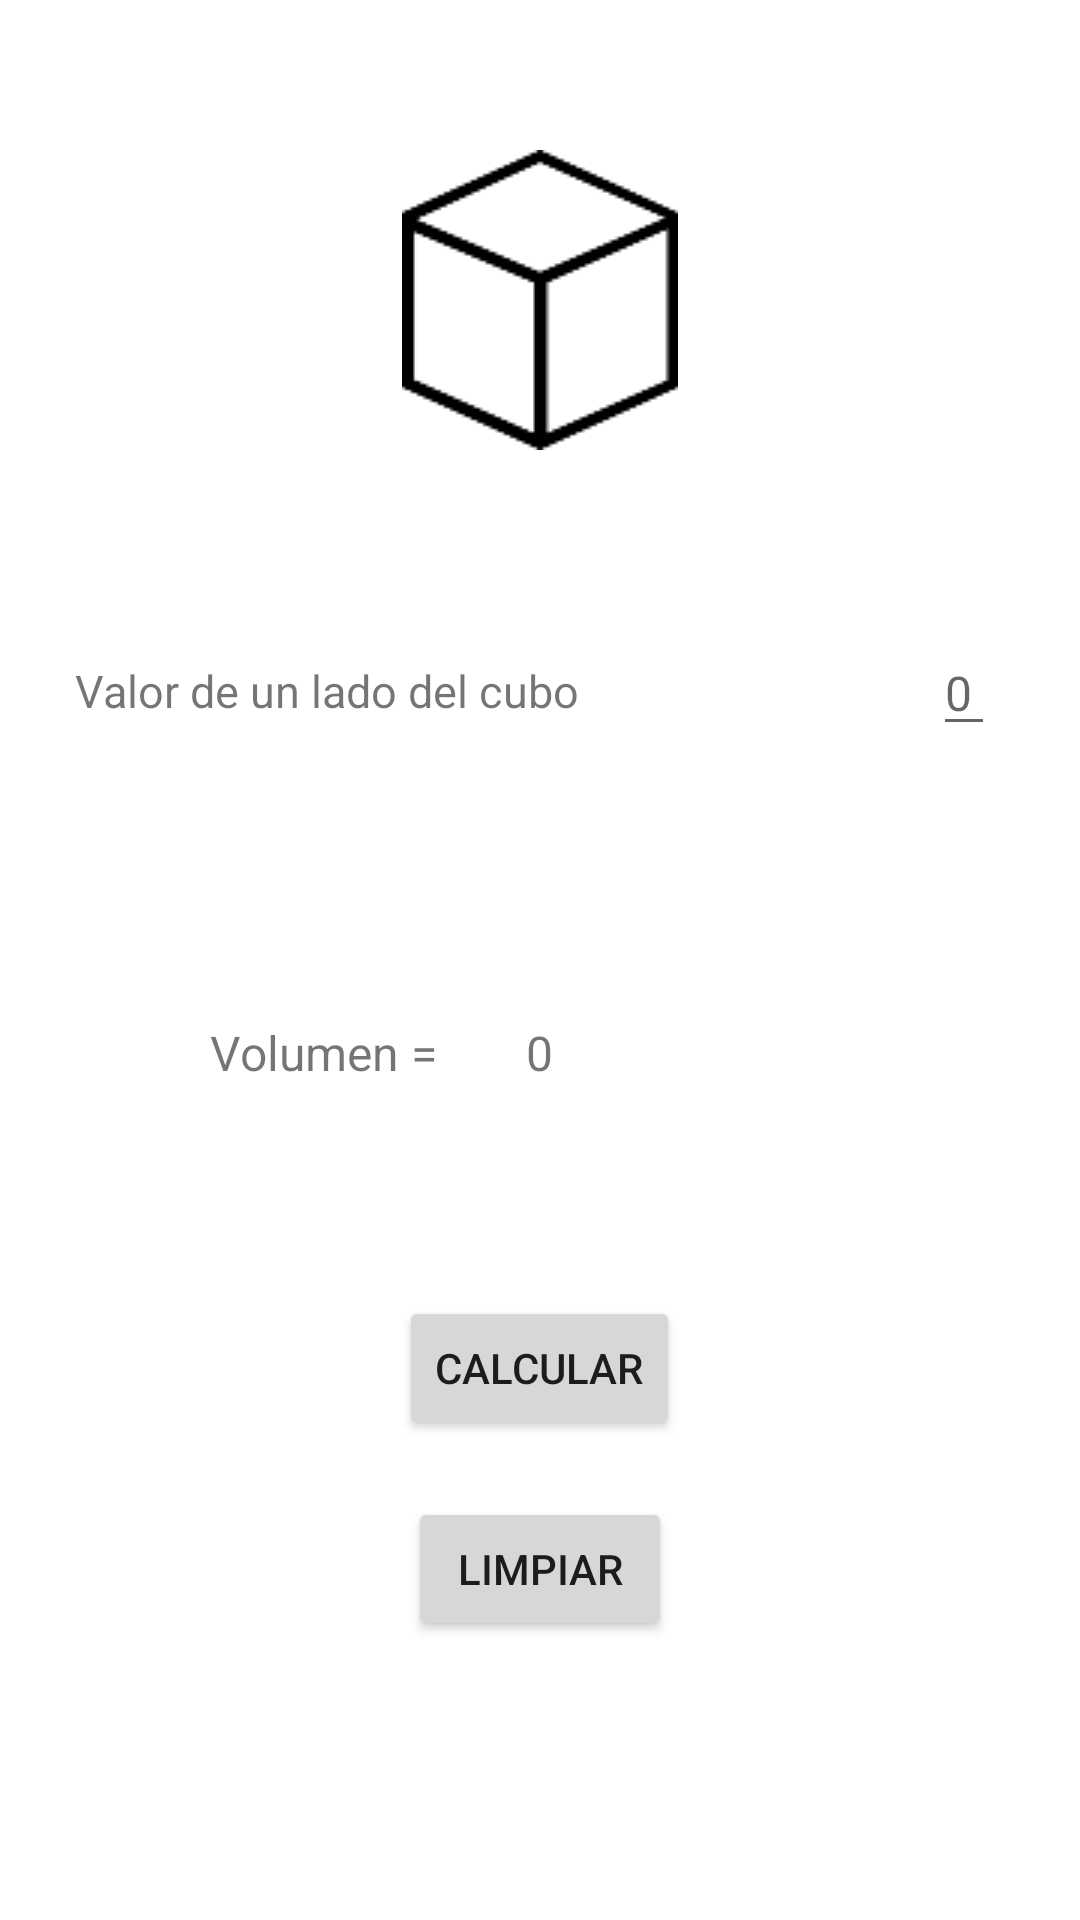

Where to tap for icons on this 1080 × 1920 app screen, as [x,y]:
cubo: [540,300]
